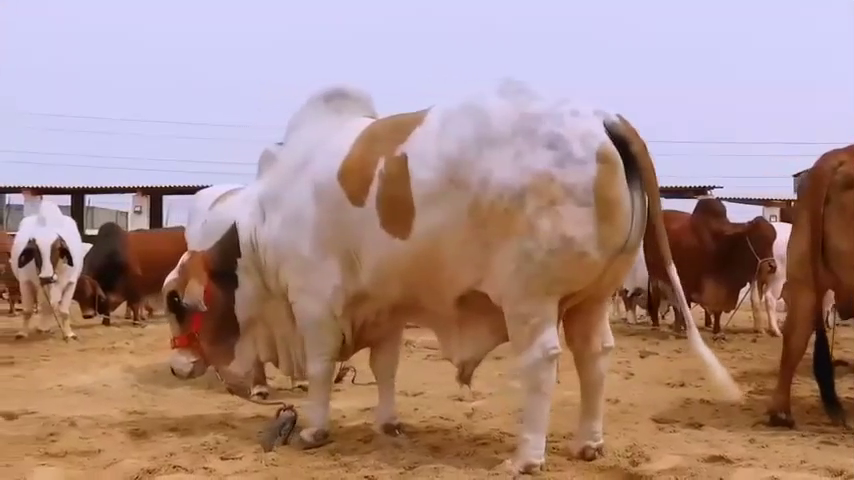bo: (169, 74, 750, 468), (737, 104, 854, 445), (60, 155, 200, 342), (638, 189, 778, 339), (753, 214, 840, 342), (14, 194, 84, 345)
